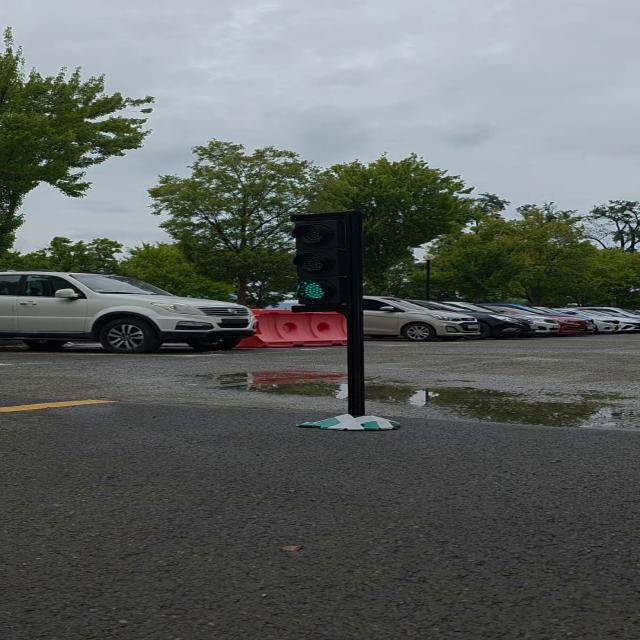green: (287, 213, 363, 309)
